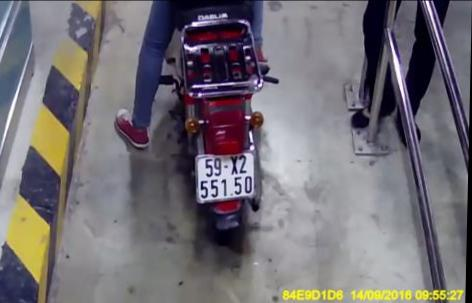LP: (194, 150, 259, 202)
